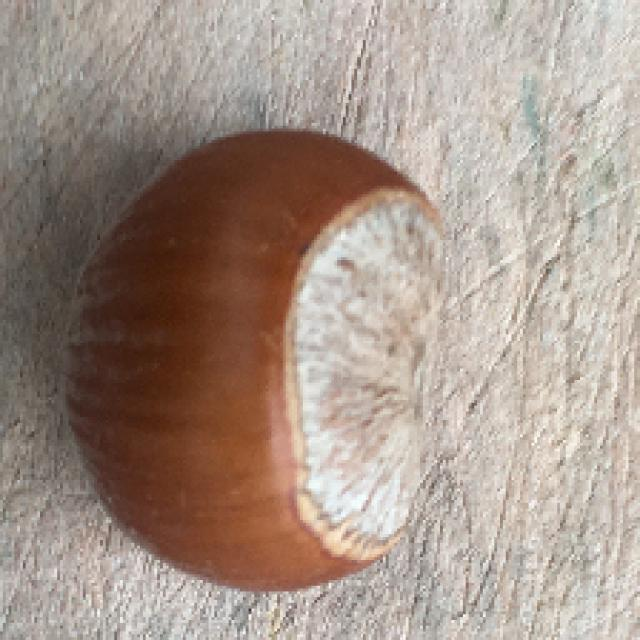qualityHazelnut: (59, 123, 456, 596)
